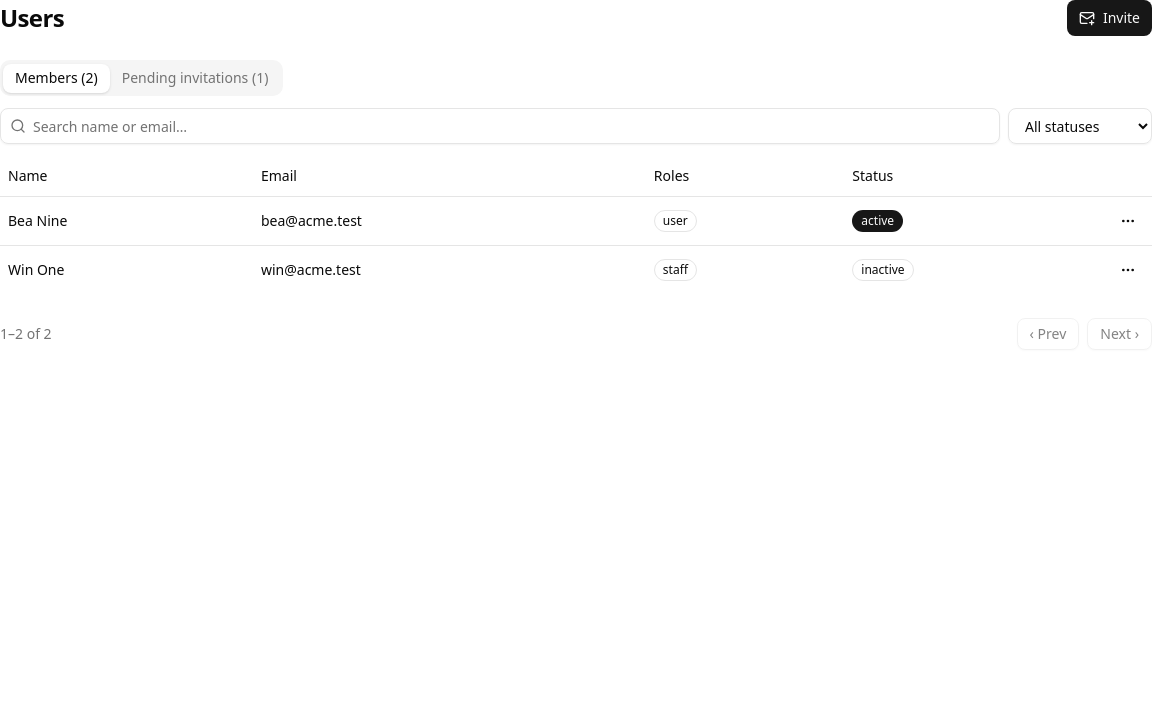
Test: Users page › roles dialog shows the server's refusal
Click the button named "Actions for Bea Nine".
click(1128, 220)  # box [1112,204,1144,236]
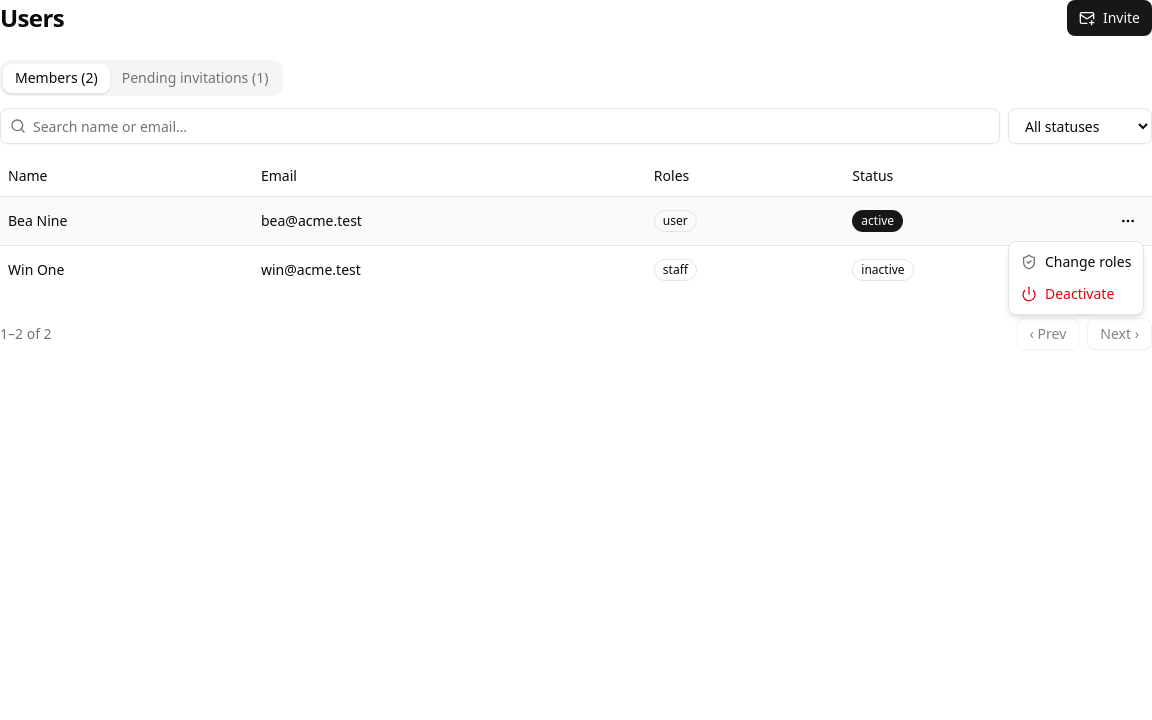
Click the menu item "Change roles".
click(1076, 262)  # box [1021,252,1131,271]
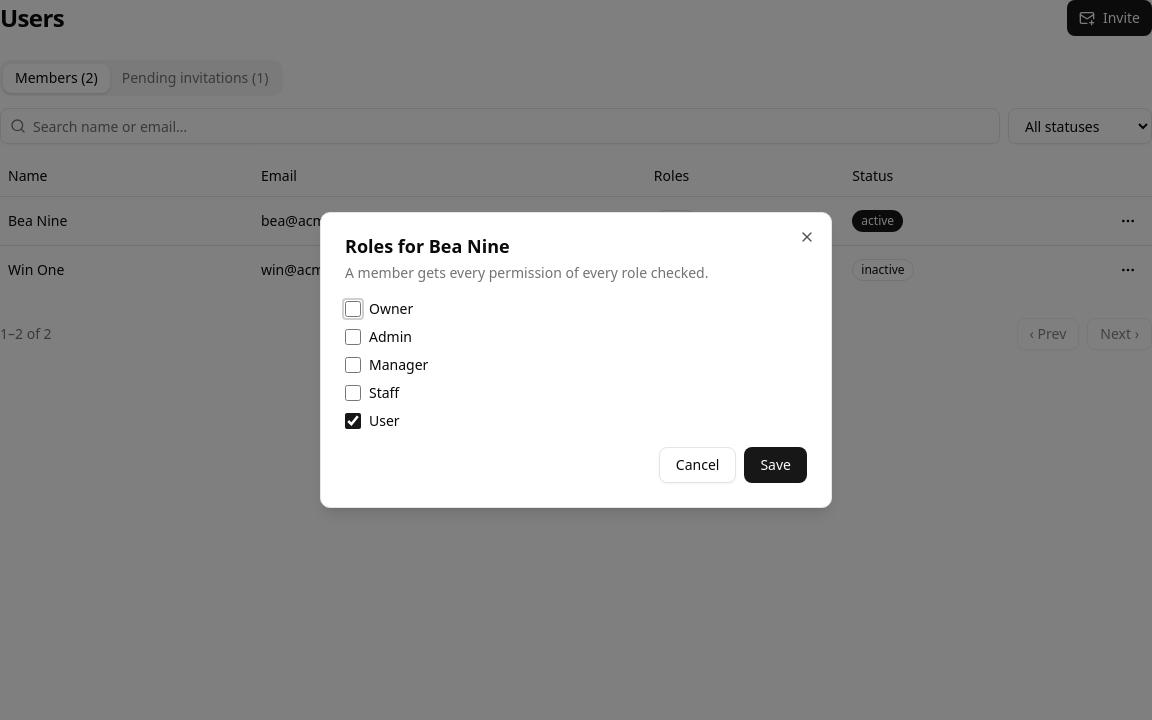
Click the checkbox labelled "Owner".
click(353, 309)  # box [345,301,361,317]
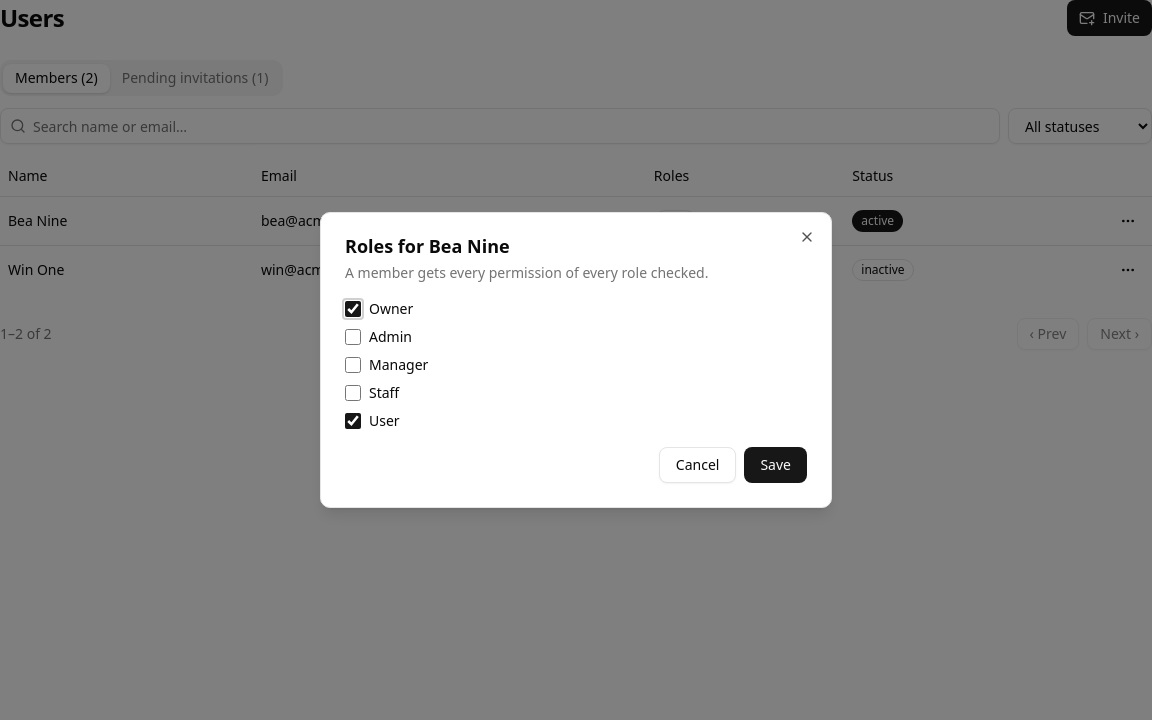
Click the button "Save".
click(776, 465)  # box [744,447,807,483]
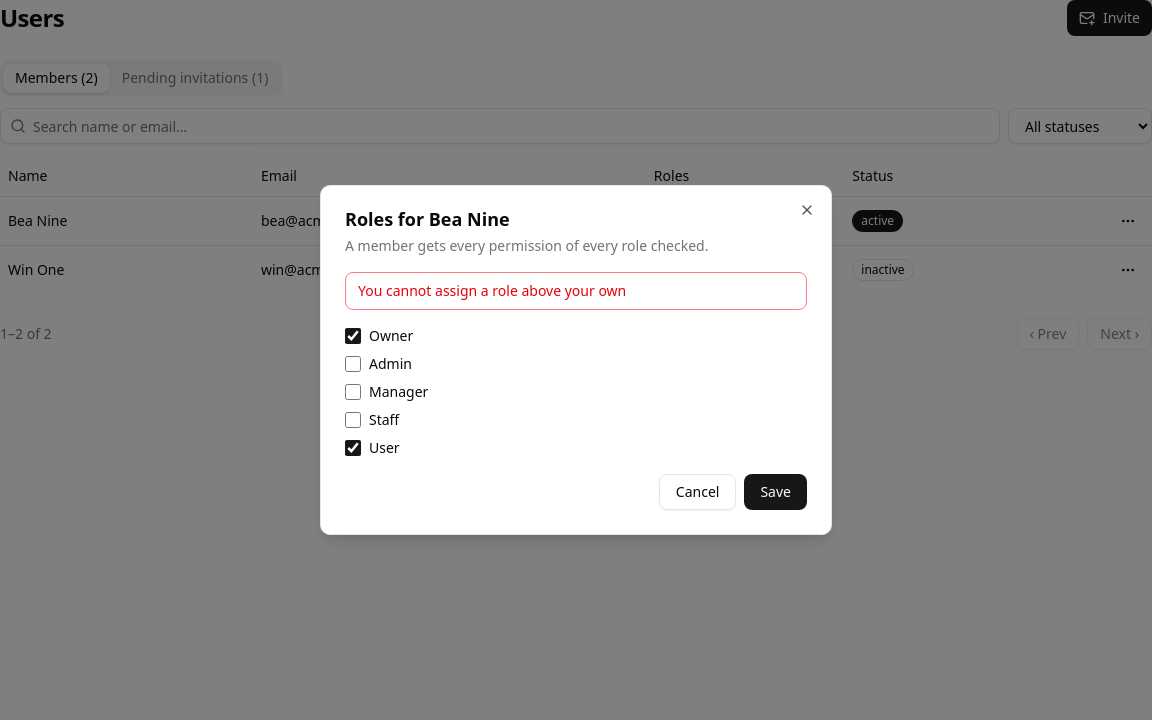
Result: the message shows "above your own" at [358,281,626,300]
